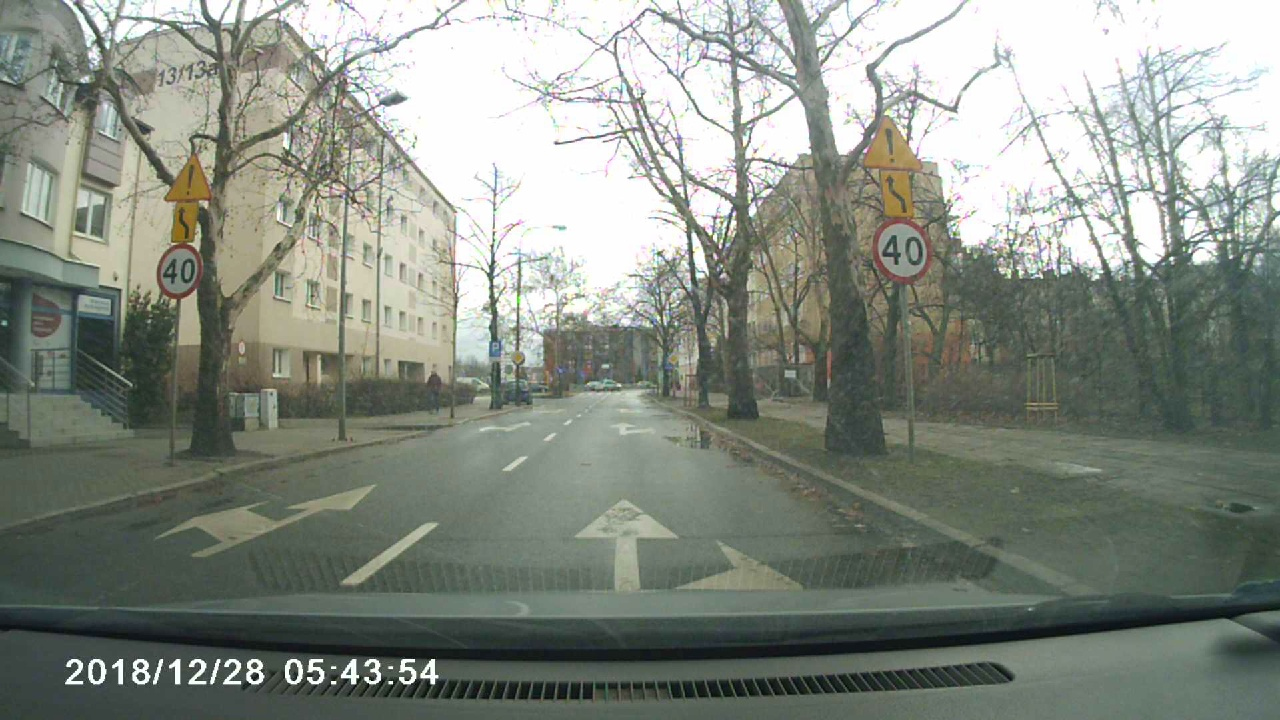A30: (857, 115, 924, 171), (161, 155, 215, 202)
B33_40: (871, 215, 928, 281), (155, 242, 205, 301)
